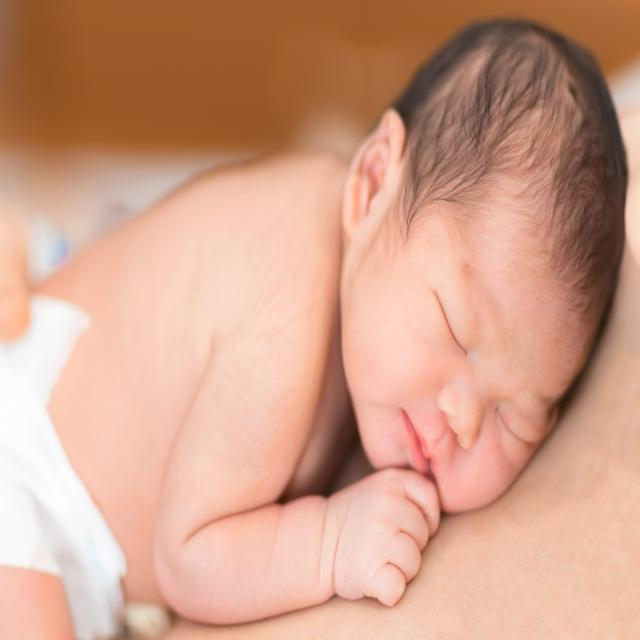non-dog: (1, 18, 628, 632)
